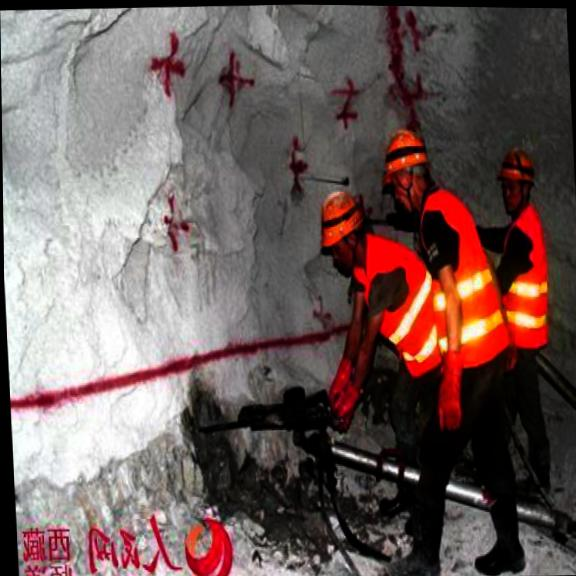safety_vest: (413, 189, 494, 380), (352, 238, 439, 389), (493, 206, 558, 365)
